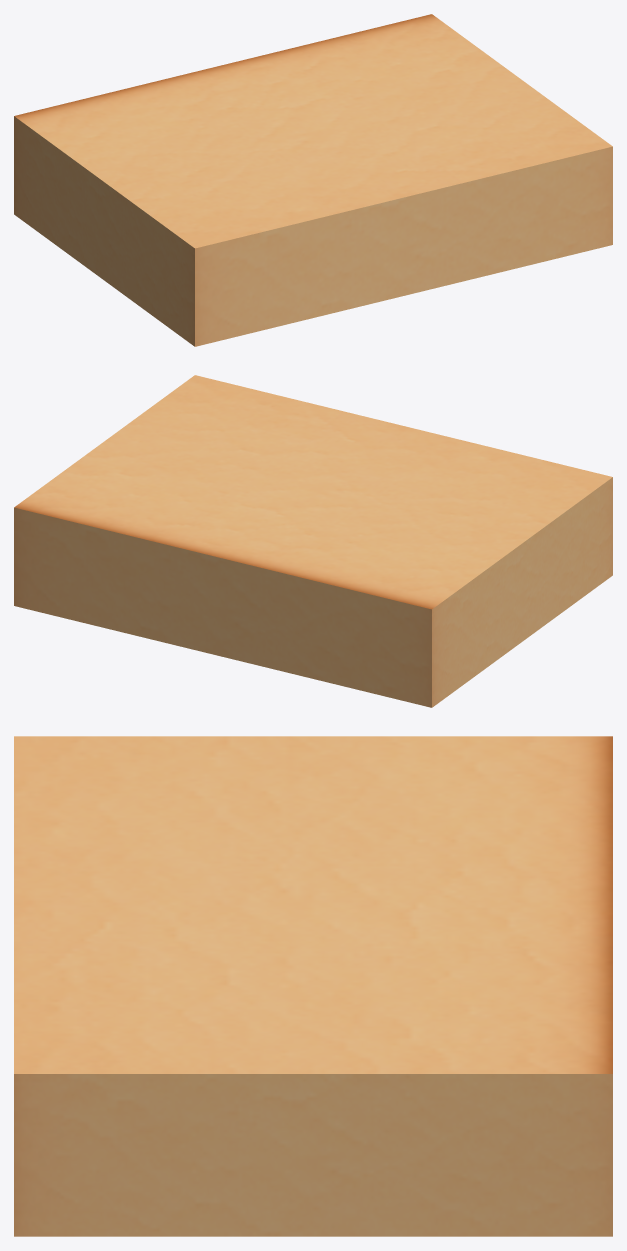
The model's file is Entrance_Platform.fbx.
The picture shows the model from 3 angles, top to bottom: view 1: azimuth 30°, elevation 25°; view 2: azimuth 150°, elevation 25°; view 3: azimuth 270°, elevation 25°; orthographic projection. The views are drawn at different scales.
Parts seen in each view (by area): view 1: Entrance_Platform; view 2: Entrance_Platform; view 3: Entrance_Platform.
Part boxes in pixels (x1,y1,x2,y2): Entrance_Platform: (14, 14, 612, 346); Entrance_Platform: (14, 375, 612, 707); Entrance_Platform: (14, 736, 612, 1236).
Size of the model in its own units: 2 by 0.45 by 1.5.
